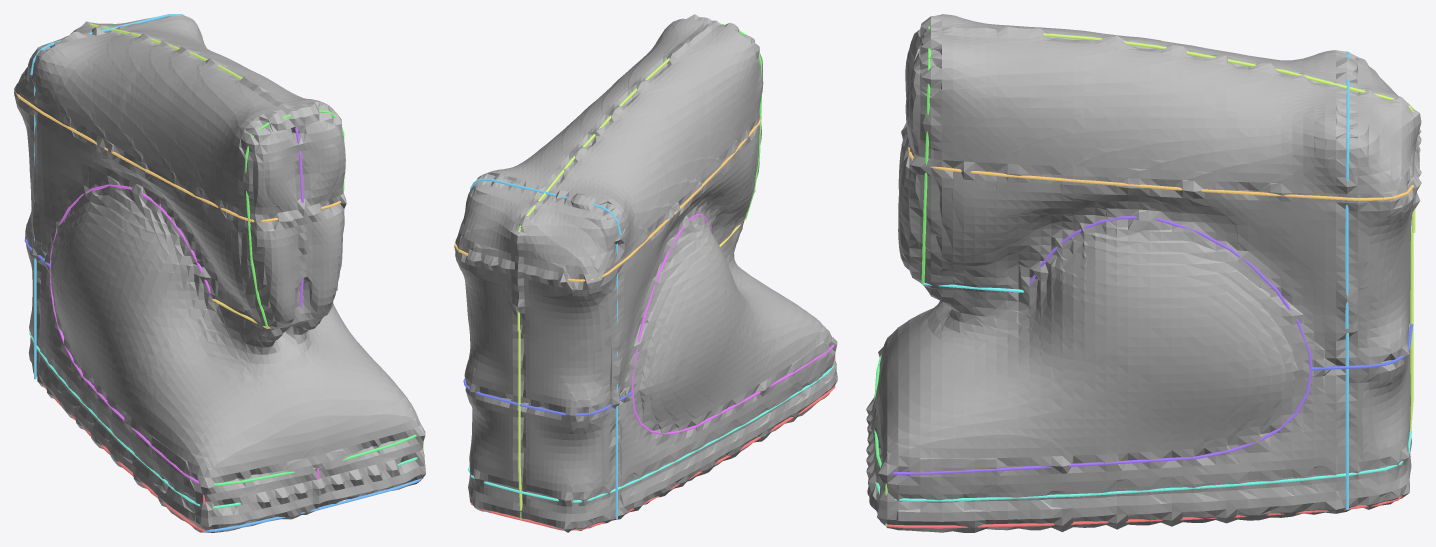
Rendered from t2f_sewing_machine.gltf.
3 views of the same model, side by side, from view 1: azimuth 30°, elevation 25°; view 2: azimuth 150°, elevation 25°; view 3: azimuth 270°, elevation 25° (orthographic). The views are drawn at different scales.
Bounding box in the file's own units: 0.3925 × 0.6351 × 0.7082.
